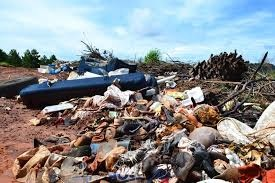rubble: (27, 73, 272, 183)
